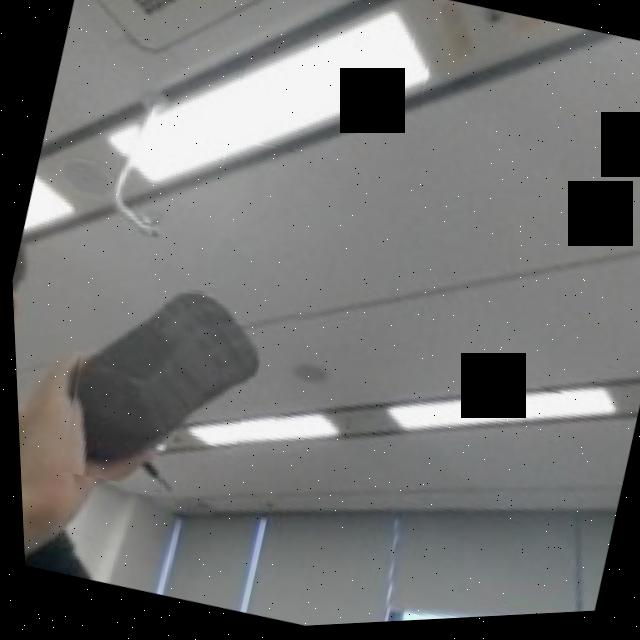shoe: (37, 218, 314, 523)
